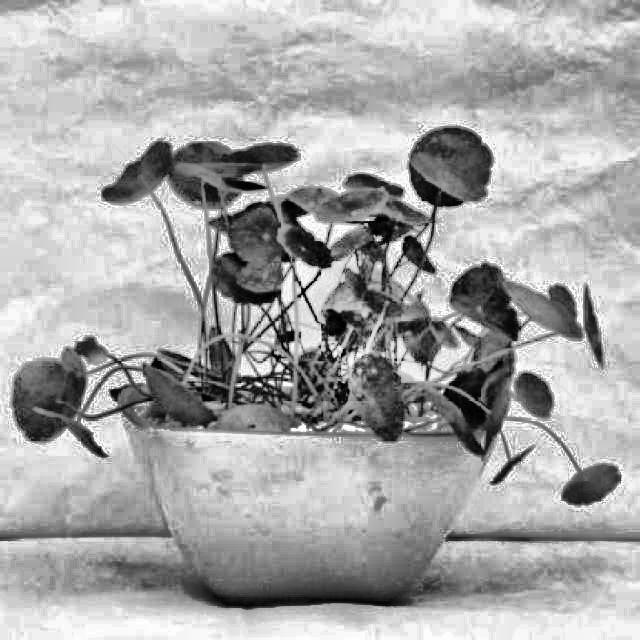plants: (115, 139, 520, 599)
